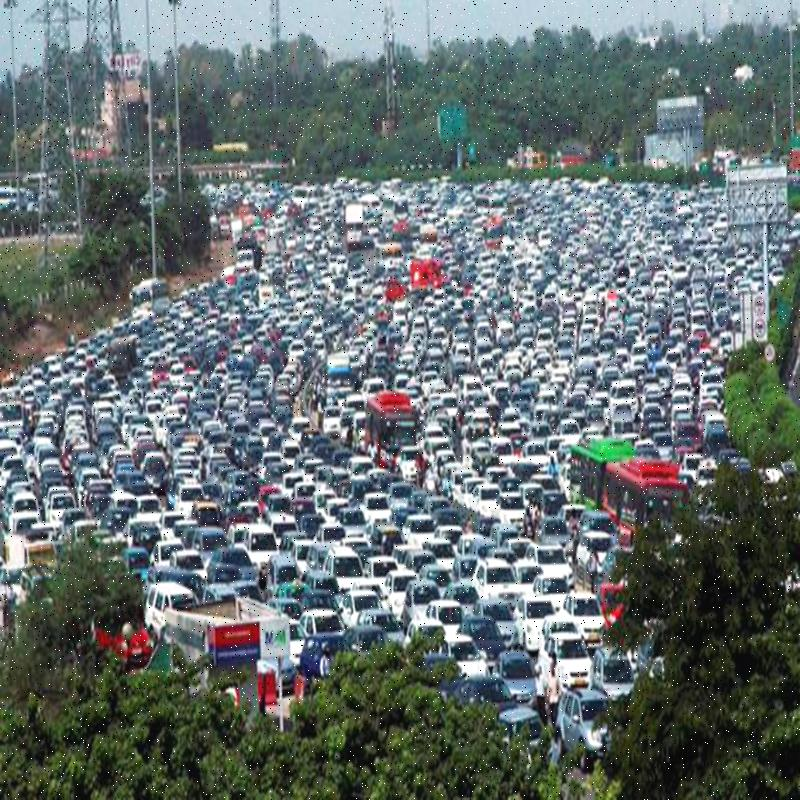car: (564, 680, 612, 762), (464, 555, 517, 622), (570, 525, 615, 595), (342, 583, 382, 661), (301, 630, 347, 697), (548, 636, 595, 696), (462, 608, 503, 676), (498, 648, 539, 712), (332, 498, 370, 566), (562, 594, 604, 654), (399, 497, 435, 564), (214, 545, 259, 598), (402, 578, 441, 634), (544, 549, 568, 624), (268, 506, 304, 548), (500, 485, 529, 534), (541, 488, 562, 530)
